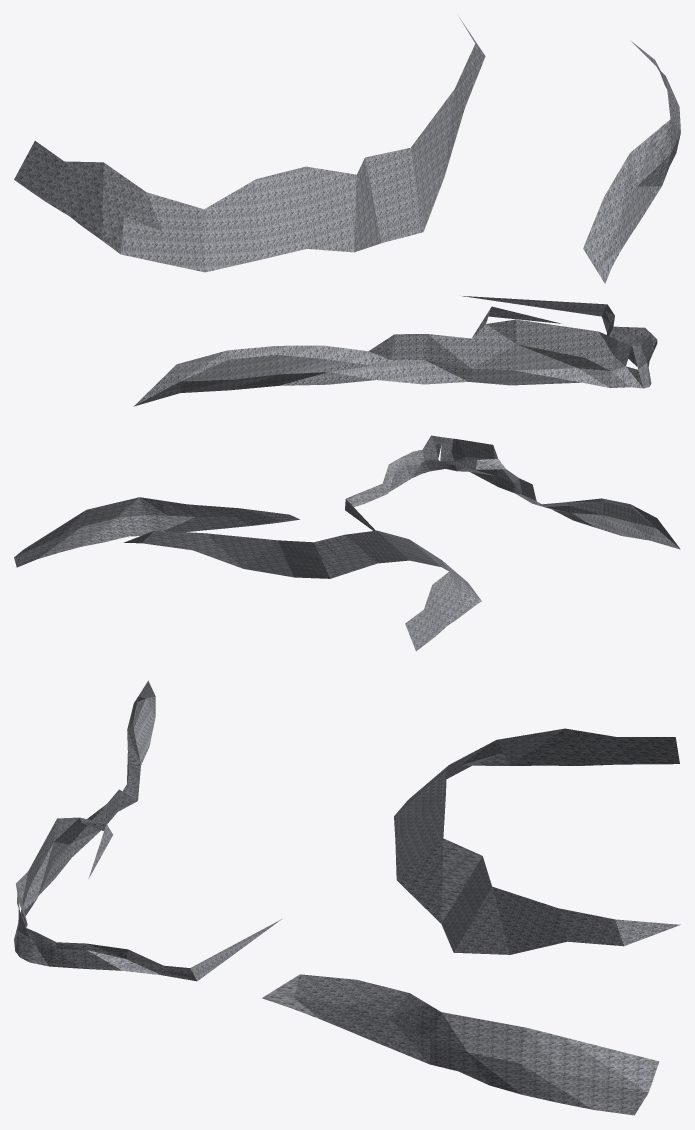
The model's file is xxxover.obj.
3 views of the same model, one above another, from view 1: azimuth 30°, elevation 25°; view 2: azimuth 150°, elevation 25°; view 3: azimuth 270°, elevation 25° (orthographic). The views are drawn at different scales.
Visible parts, largest first — view 1: xxxover; view 2: xxxover; view 3: xxxover.
Part boxes in pixels (left/top/right/bottom): xxxover: left=14, top=17, right=680, bottom=406; xxxover: left=14, top=435, right=680, bottom=651; xxxover: left=14, top=680, right=680, bottom=1115.
Size of the model in its own units: 495 by 63.41 by 370.
Materials: 1 (1 with a texture image).
